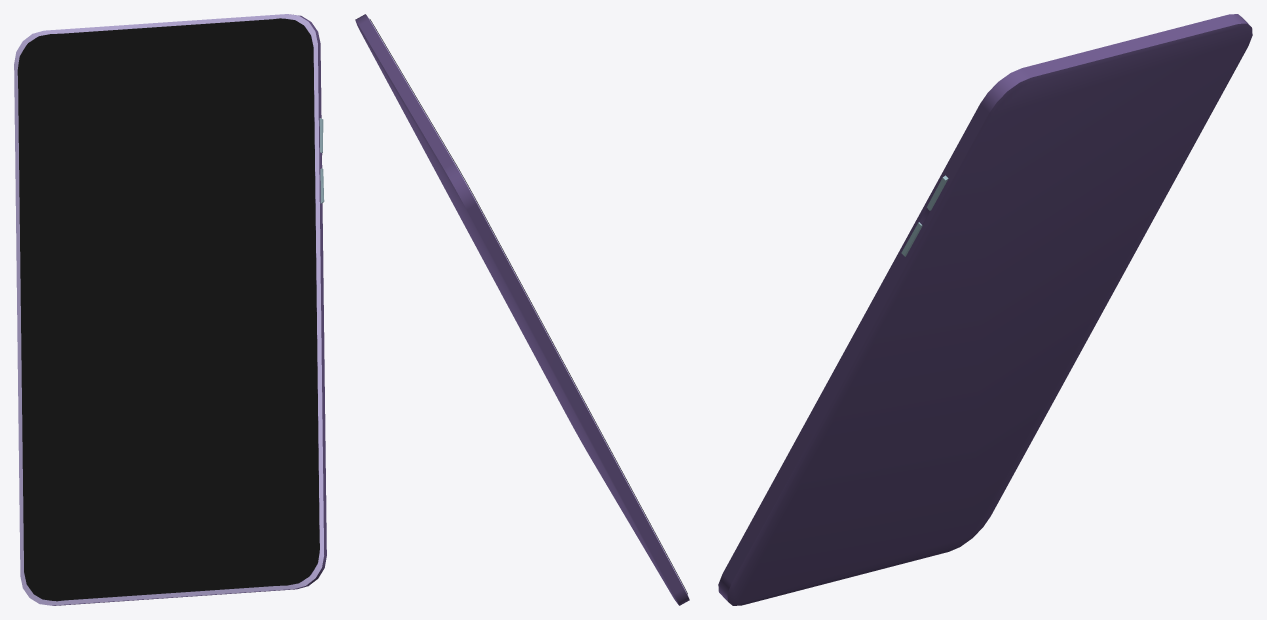
The model's file is Phone.glb.
The picture shows the model from 3 angles, left to right: view 1: azimuth 30°, elevation 25°; view 2: azimuth 150°, elevation 25°; view 3: azimuth 270°, elevation 25°; orthographic projection. The views are drawn at different scales.
Parts seen in each view (by area): view 1: Phone_PhoneGlass_0, Phone_MetalRim_0; view 2: Phone_MetalRim_0, Phone_PhoneGlass_0; view 3: Phone_MetalRim_0.
Part boxes in pixels (<box>): Phone_PhoneGlass_0: <box>17,18,319,601</box>; Phone_MetalRim_0: <box>14,14,326,605</box>; Phone_MetalRim_0: <box>355,14,689,605</box>; Phone_PhoneGlass_0: <box>370,19,687,593</box>; Phone_MetalRim_0: <box>718,14,1252,605</box>.
Size of the model in its own units: 1.57 by 2.49 by 1.87.
